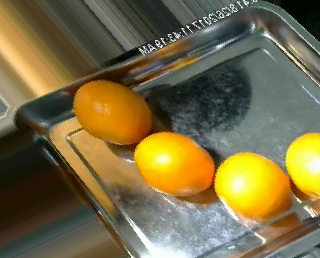Orange: (213, 151, 293, 220), (133, 131, 215, 197), (73, 79, 153, 145), (284, 132, 319, 197)
